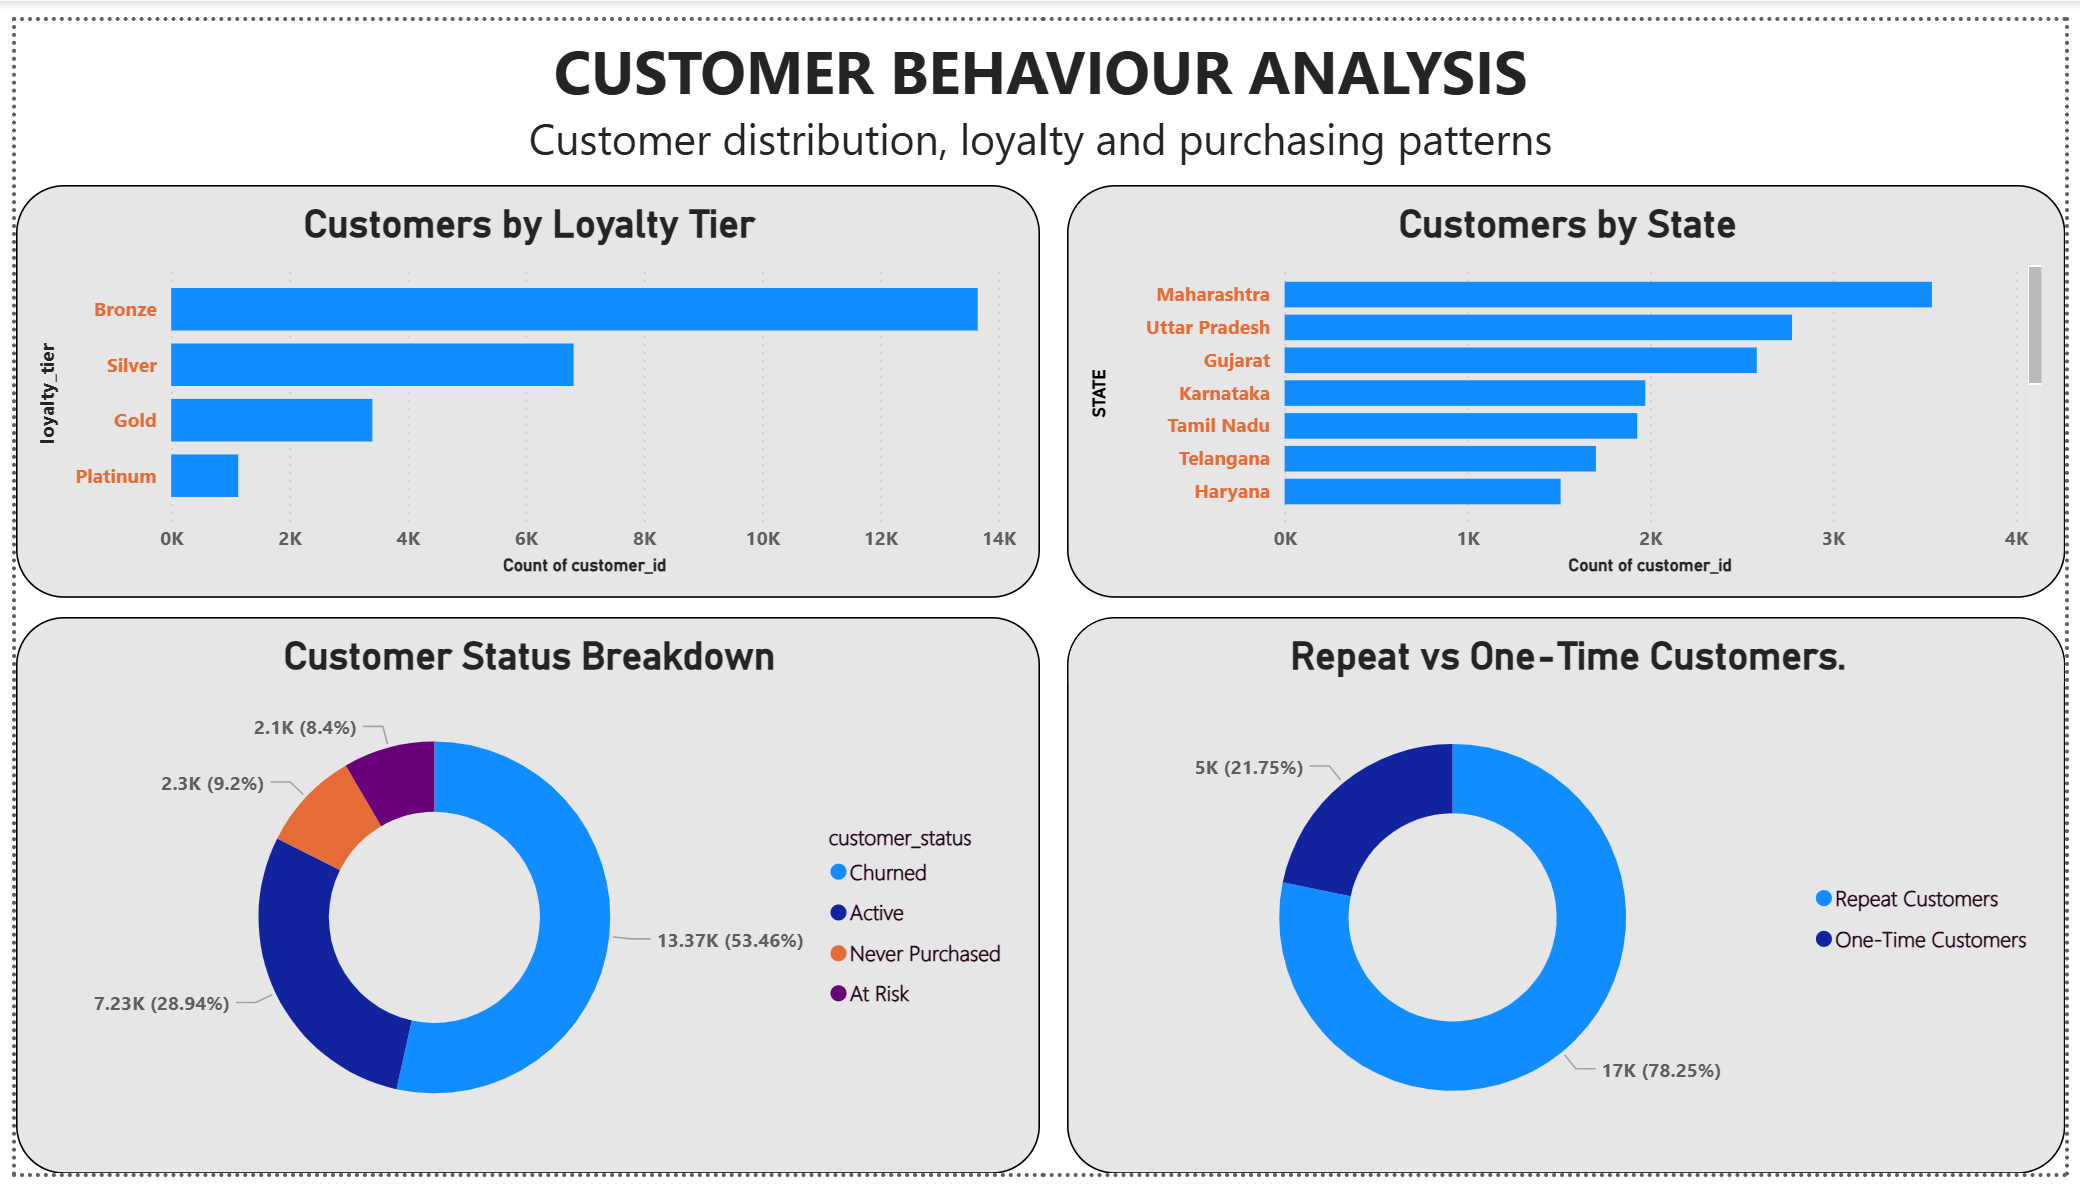

The dashboard page shown, as its layout file describes it:
{"tool":"powerbi","page":{"name":"Customer Behaviour","canvas":[1280,720],"ordinal":1},"visuals":[{"type":"textbox","box":[0,0,1280,102],"z":0},{"type":"clusteredBarChart","title":"Customers by Loyalty Tier","fields":{"Category":["customers.loyalty_tier"],"Y":["Count(customers.customer_id)"]},"box":[0,102,640,258],"z":1000},{"type":"clusteredBarChart","title":"Customers by State","fields":{"Category":["customers.state"],"Y":["Count(customers.customer_id)"]},"box":[656,102,624,258],"z":2000},{"type":"donutChart","title":"Customer Status Breakdown","fields":{"Category":["customers.customer_status"],"Y":["Count(customers.customer_id)"]},"box":[0,372,640,348],"z":3000},{"type":"donutChart","title":"Repeat vs One-Time Customers.","fields":{"Y":["orders.Repeat Customers","orders.One-Time Customers"]},"box":[656,372,624,348],"z":4000}]}

Visuals, with their boxes in screenshot pixels (x1, y1, x2, y2), scaled from the page's 1280x720 canvas onto the 2080x1198 screenshot:
textbox: {"left": 0, "top": 0, "right": 2079, "bottom": 170}
"Customers by Loyalty Tier" clusteredBarChart: {"left": 0, "top": 170, "right": 1040, "bottom": 599}
"Customers by State" clusteredBarChart: {"left": 1066, "top": 170, "right": 2079, "bottom": 599}
"Customer Status Breakdown" donutChart: {"left": 0, "top": 619, "right": 1040, "bottom": 1197}
"Repeat vs One-Time Customers." donutChart: {"left": 1066, "top": 619, "right": 2079, "bottom": 1197}
